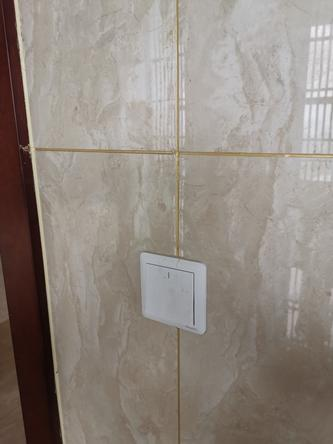switch: (140, 260, 204, 329)
